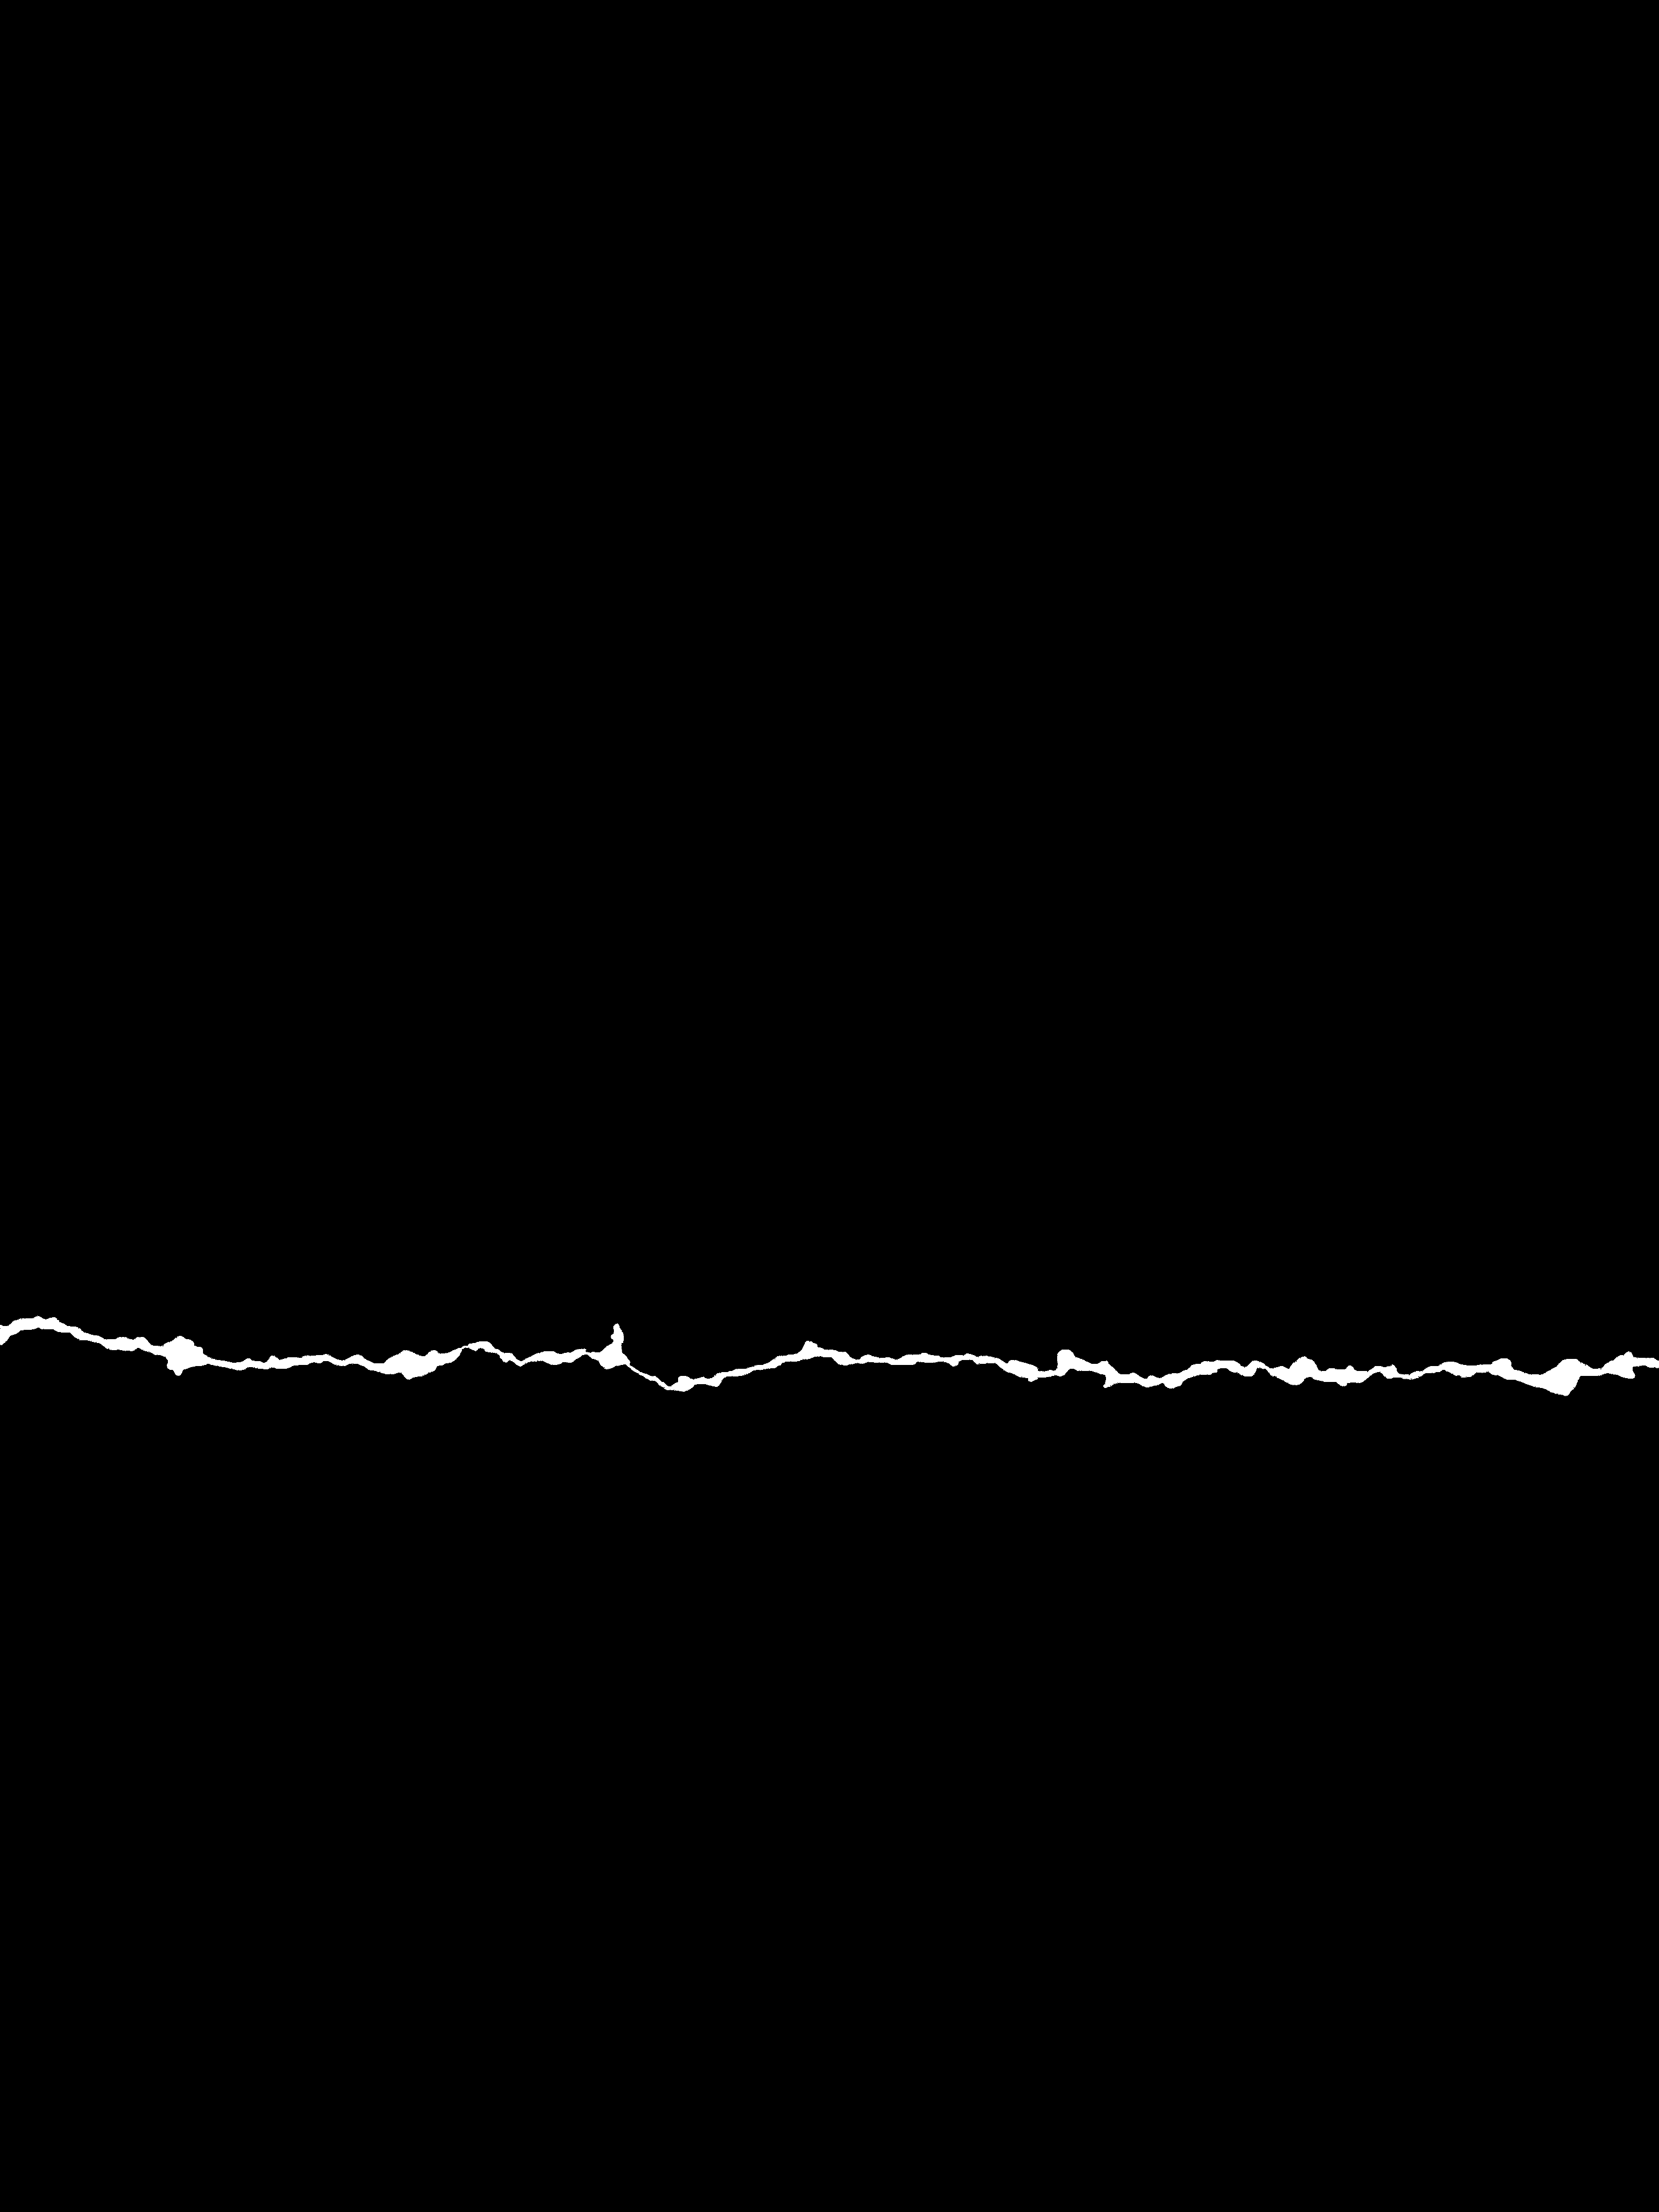Crack: (0, 1305, 1659, 1406)
